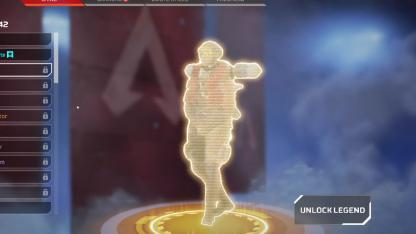Target: (181, 33, 263, 217)
